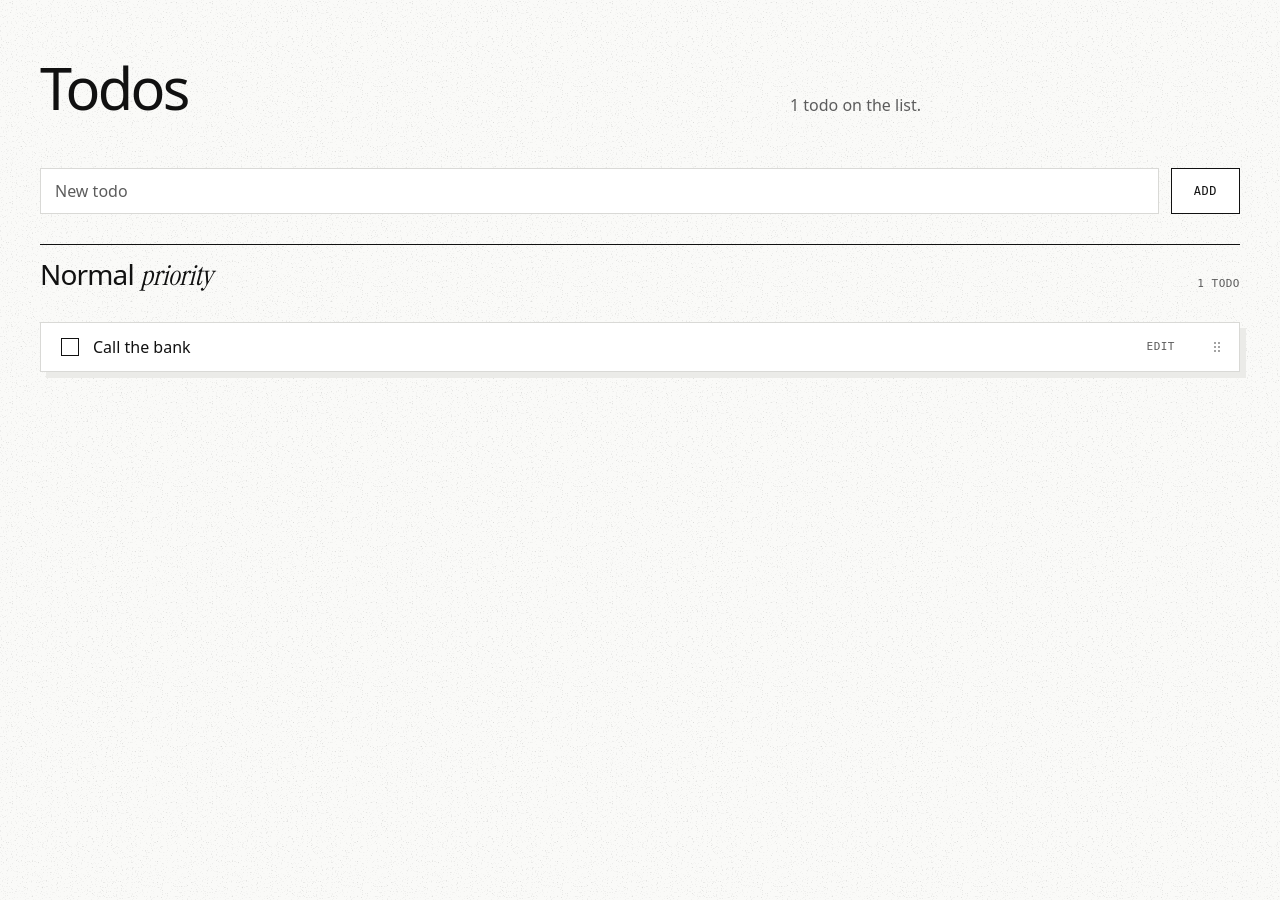
Test: deletes a todo from its editor, then gives the focus to the Add field once none is left
Click the button with aria-label "Edit Call the bank": [1161, 348] box [1126, 324, 1195, 372]
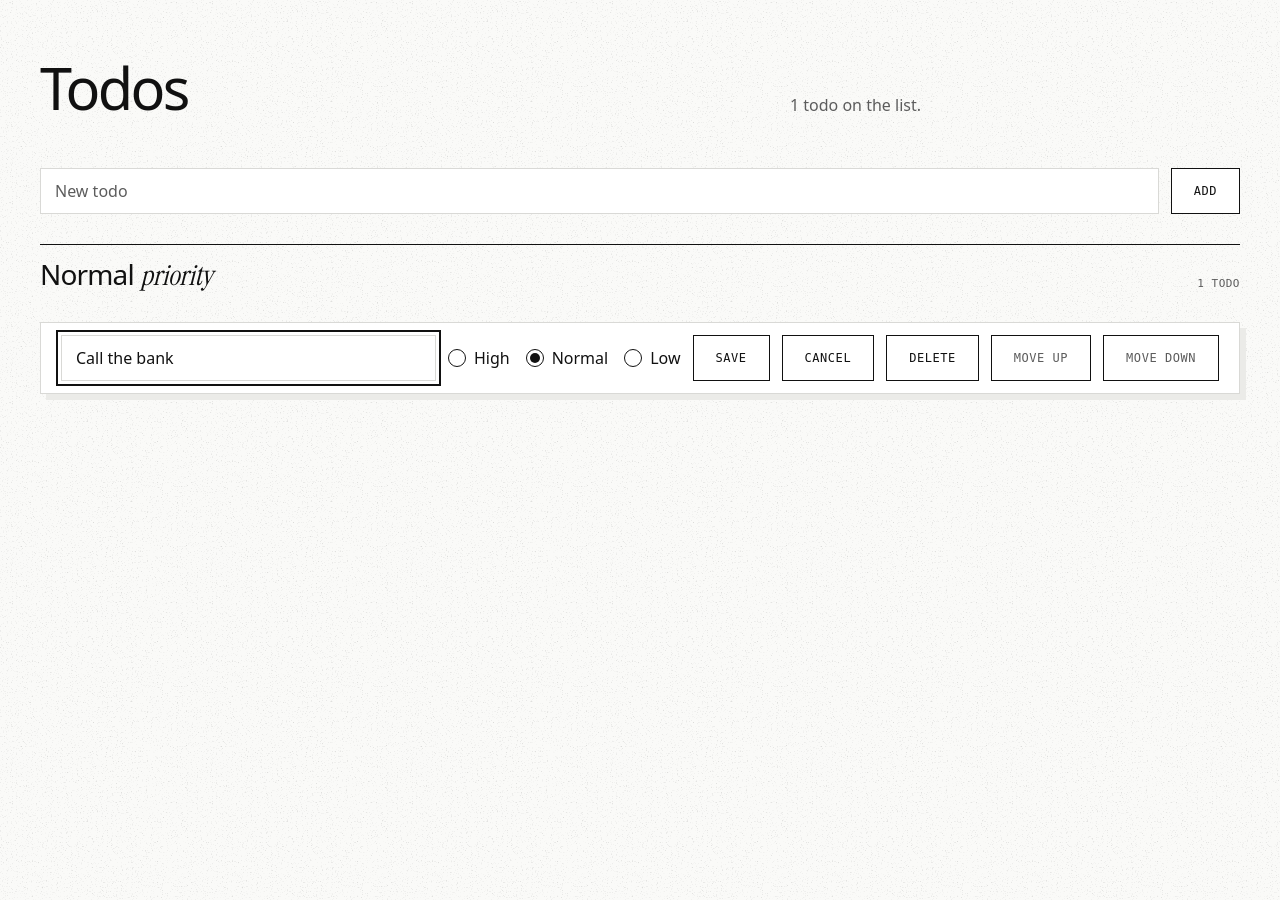
Click the button "Delete": [932, 358] box [886, 336, 979, 382]
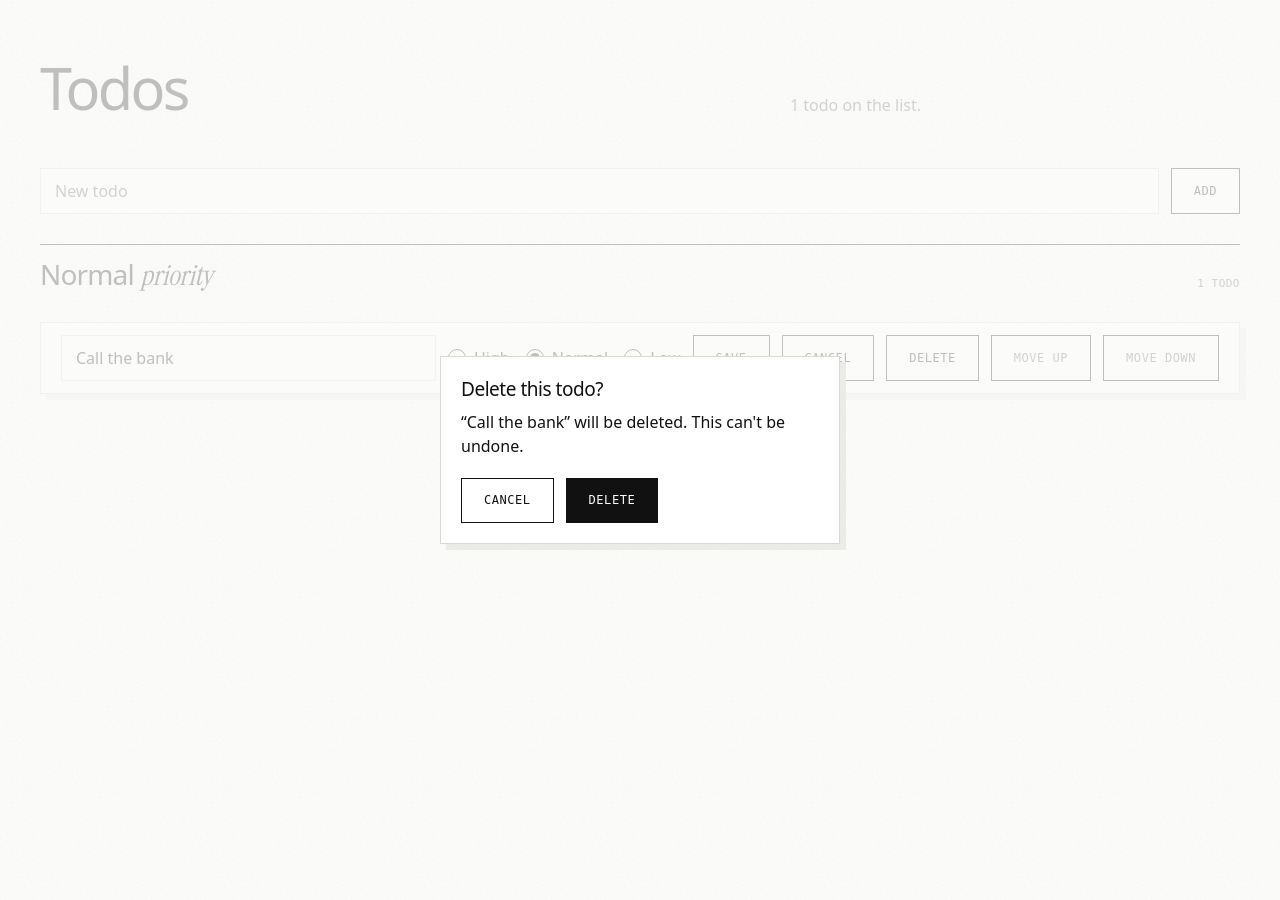
Click the button "Delete": [612, 500] box [566, 478, 658, 522]
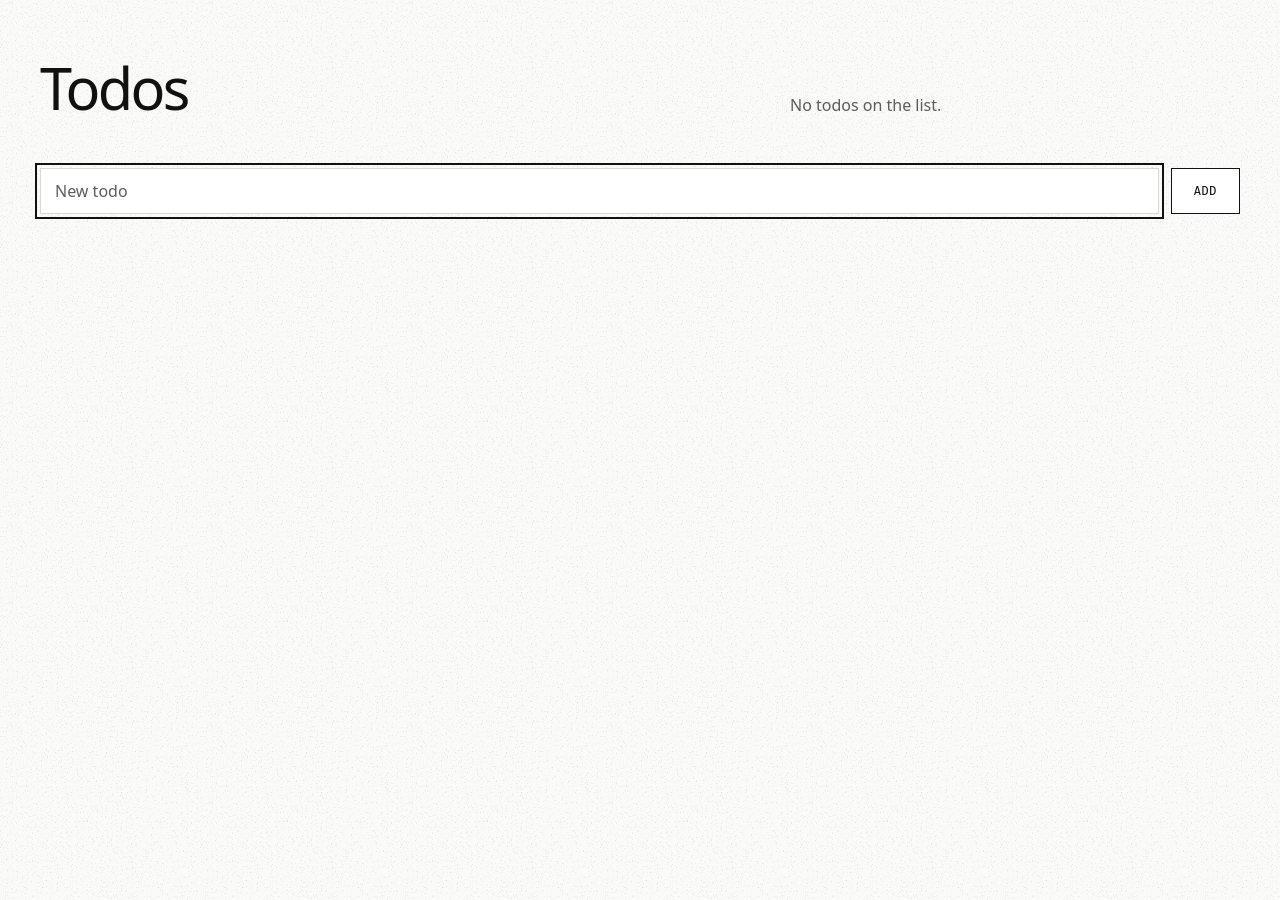
Expected: the text "No todos on the list." is shown, [790, 94, 941, 116]
Expected: the list is gone
